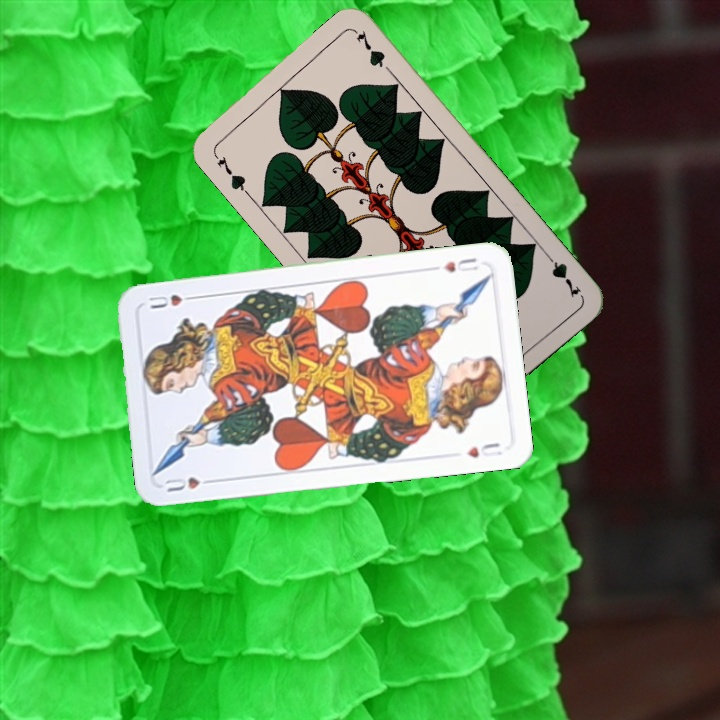G7: (540, 248, 584, 300), (209, 148, 252, 198)
HU: (161, 473, 219, 494), (439, 253, 481, 275)
